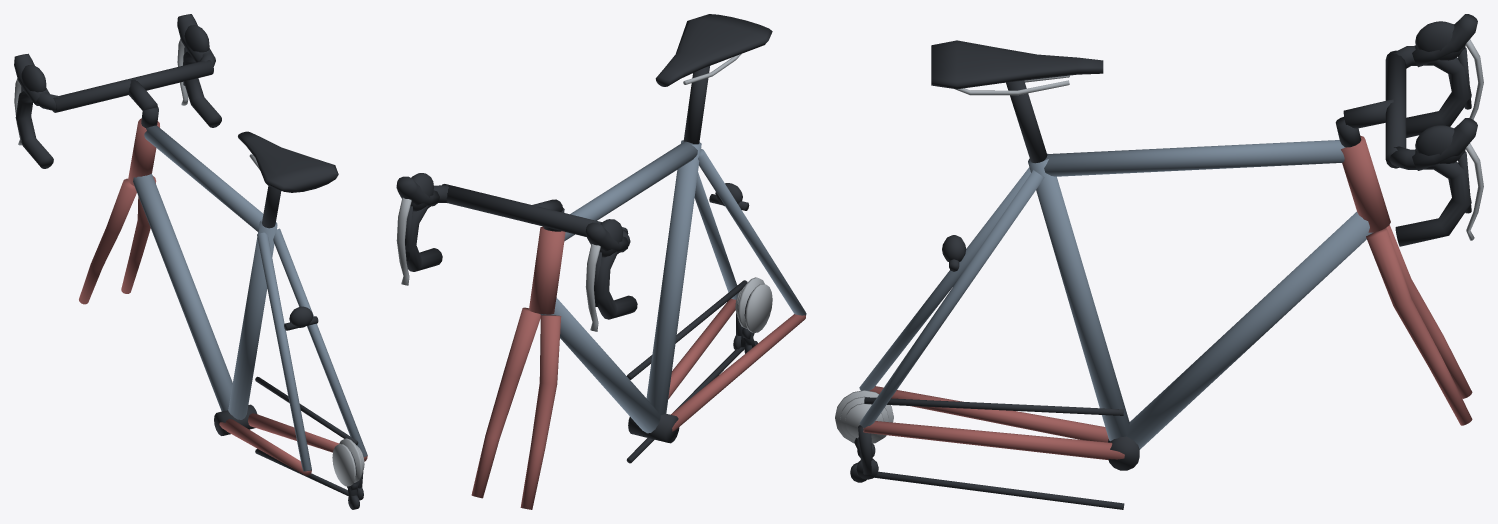
File: bike_frame.glb
3 views of the same model, side by side, from view 1: azimuth 30°, elevation 25°; view 2: azimuth 150°, elevation 25°; view 3: azimuth 270°, elevation 25° (orthographic). The views are drawn at different scales.
Parts seen in each view (by area): view 1: bike_frame; view 2: bike_frame; view 3: bike_frame.
Boxes of the visible parts, x1,y1,x2,y2 form: bike_frame: (14, 14, 367, 509); bike_frame: (396, 14, 806, 509); bike_frame: (835, 14, 1483, 509).
Bounding box in the file's own units: 0.428 × 0.7566 × 1.01.
